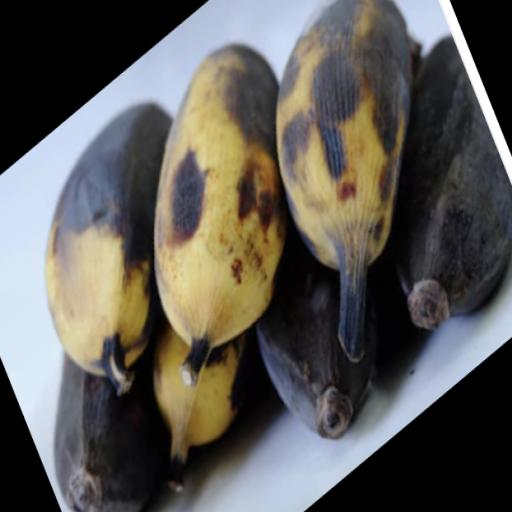banana-overripe: (20, 13, 512, 512)
